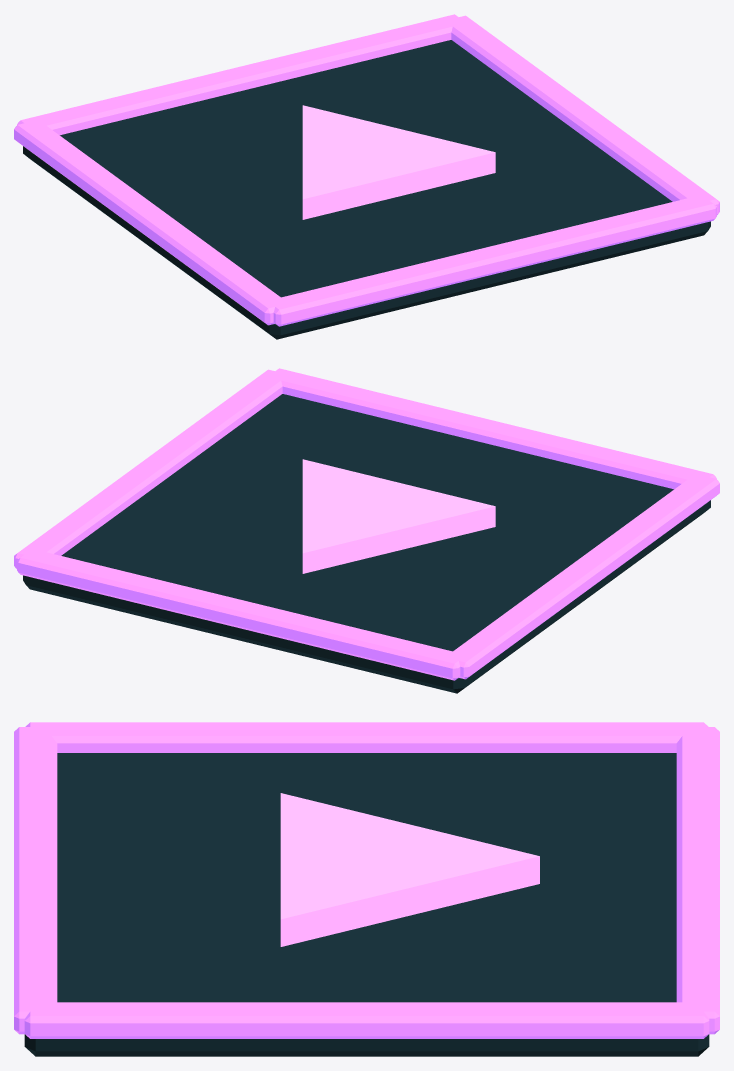
File: pad_purple.glb
The picture shows the model from 3 angles, top to bottom: view 1: azimuth 30°, elevation 25°; view 2: azimuth 150°, elevation 25°; view 3: azimuth 270°, elevation 25°; orthographic projection. The views are drawn at different scales.
Visible parts, largest first — view 1: pad_purple; view 2: pad_purple; view 3: pad_purple.
Part boxes in pixels (x1,y1,x2,y2): pad_purple: (14,14,719,339); pad_purple: (14,368,719,693); pad_purple: (14,722,719,1056).
Bounding box in the file's own units: 1.96 × 0.185 × 1.96.
